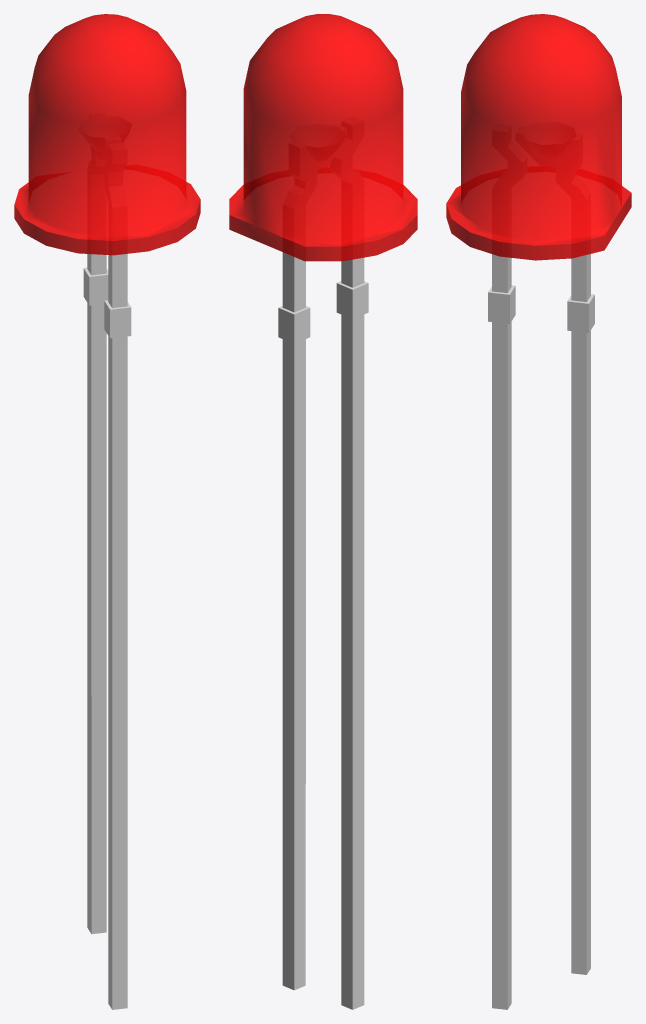
Rendered from LED.glb.
3 renders of one model, left to right at view 1: azimuth 30°, elevation 25°; view 2: azimuth 150°, elevation 25°; view 3: azimuth 270°, elevation 25°, orthographic. The views are drawn at different scales.
Visible parts, largest first — view 1: LED, Legs; view 2: LED, Legs; view 3: LED, Legs.
Boxes of the visible parts, x1,y1,x2,y2 form: LED: [14, 14, 200, 255]; Legs: [83, 254, 131, 1009]; LED: [229, 14, 417, 261]; Legs: [278, 252, 368, 1009]; LED: [446, 14, 631, 260]; Legs: [488, 254, 594, 1009].
Bounding box in the file's own units: 0.00589 × 0.0338 × 0.00574.
